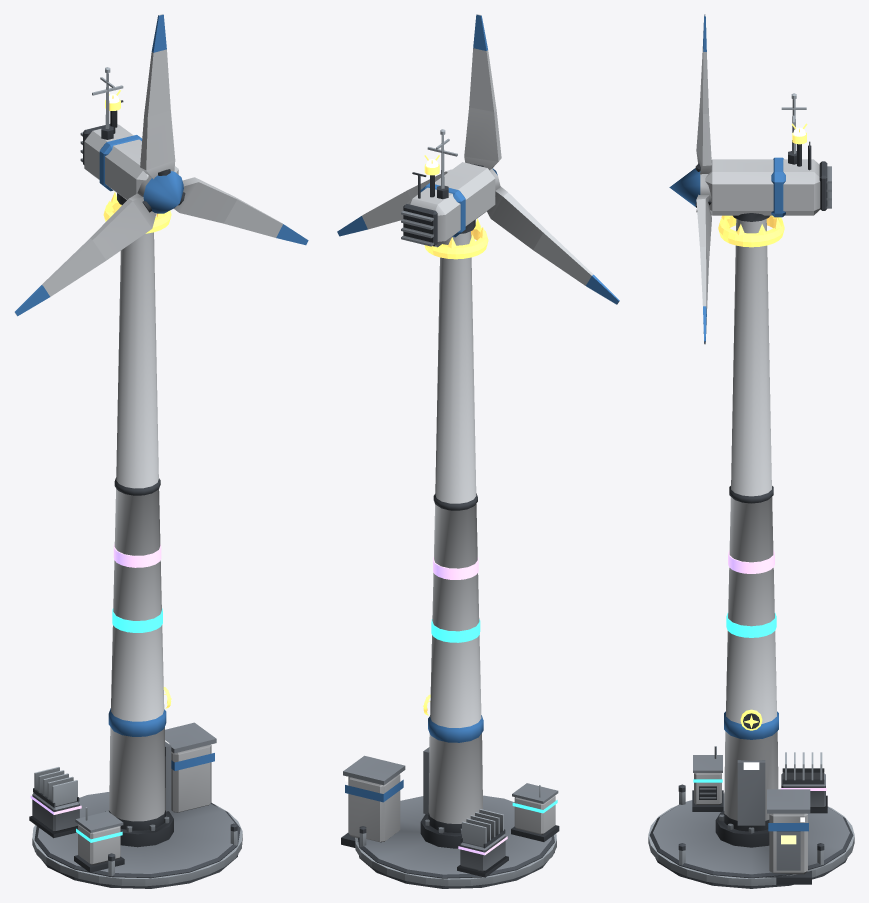
File: wind_turbine.glb
The picture shows the model from 3 angles, left to right: view 1: azimuth 30°, elevation 25°; view 2: azimuth 150°, elevation 25°; view 3: azimuth 270°, elevation 25°; orthographic projection. The views are drawn at different scales.
Parts seen in each view (by area): view 1: Base, Rotor, L4, L3, L2, L5; view 2: Base, Rotor, L4, L3, L2, L5; view 3: Base, Rotor, L2, L3, L4, L5.
Part boxes in pixels (x1,y1,x2,y2): Base: (34, 100, 240, 888); Rotor: (14, 14, 308, 316); L4: (29, 544, 161, 838); L3: (74, 608, 162, 872); L2: (32, 67, 242, 886); L5: (103, 90, 171, 708); Base: (341, 162, 554, 888); Rotor: (337, 14, 619, 304); L4: (433, 557, 508, 877); L3: (431, 619, 559, 841); L2: (355, 129, 556, 886); L5: (423, 155, 488, 715); Base: (649, 141, 853, 888); Rotor: (669, 14, 711, 344); L2: (648, 93, 854, 885); L3: (692, 613, 776, 811); L4: (728, 550, 827, 813); L5: (718, 123, 807, 730).
Size of the model in its own units: 4.28 by 11.82 by 2.66.
